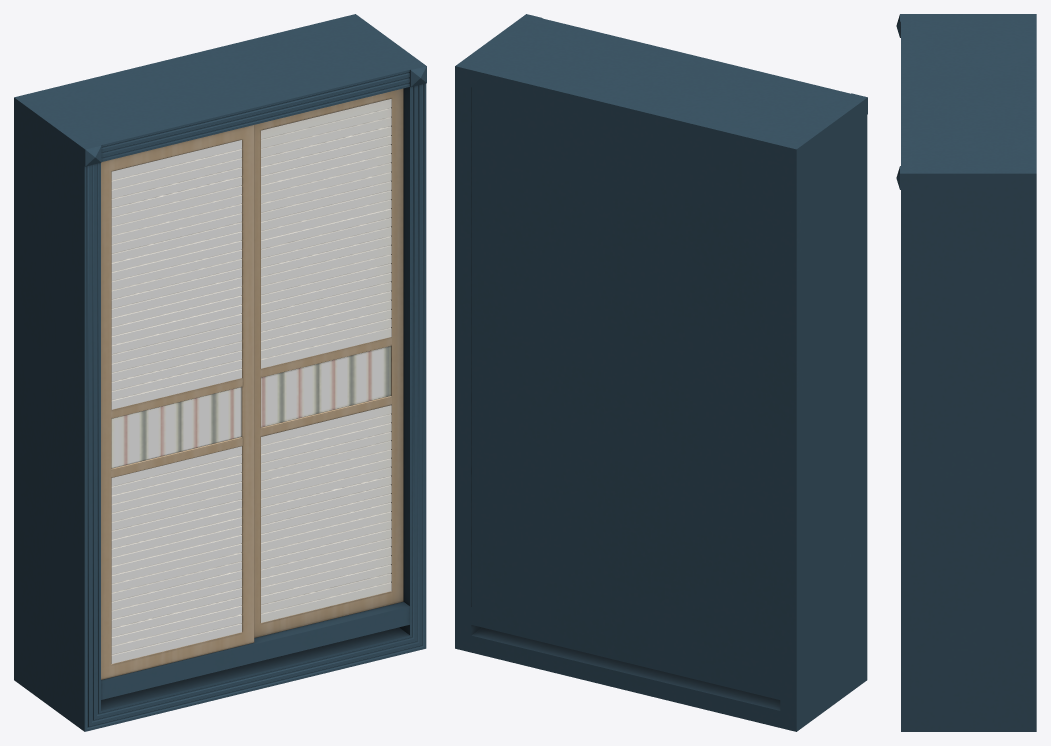
The model's file is raw_model.obj.
The picture shows the model from 3 angles, left to right: view 1: azimuth 30°, elevation 25°; view 2: azimuth 150°, elevation 25°; view 3: azimuth 270°, elevation 25°; orthographic projection. The views are drawn at different scales.
Parts seen in each view (by area): view 1: solid_002, solid_001, solid_003, solid_004; view 2: solid_001; view 3: solid_001.
Boxes of the visible parts, left/top/right/bottom form: solid_002: left=111, top=99, right=391, bottom=663; solid_001: left=14, top=14, right=426, bottom=731; solid_003: left=101, top=88, right=403, bottom=679; solid_004: left=111, top=346, right=390, bottom=468; solid_001: left=455, top=14, right=867, bottom=731; solid_001: left=896, top=14, right=1036, bottom=731.
Bounding box in the file's own units: 1.24 × 2.02 × 0.4593.
1 material, 1 textured.
